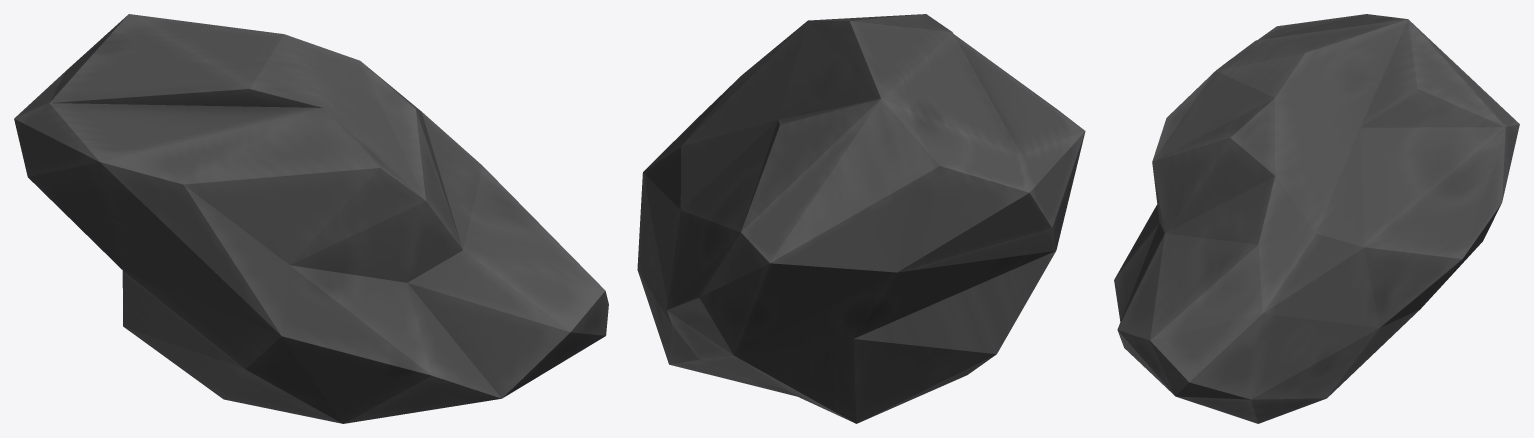
File: asteroid4.glb
3 views of the same model, side by side, from view 1: azimuth 30°, elevation 25°; view 2: azimuth 150°, elevation 25°; view 3: azimuth 270°, elevation 25° (orthographic). The views are drawn at different scales.
Visible parts, largest first — view 1: Asteroids_Mesh.004; view 2: Asteroids_Mesh.004; view 3: Asteroids_Mesh.004.
Part boxes in pixels (<box>): Asteroids_Mesh.004: <box>14,14,608,423</box>; Asteroids_Mesh.004: <box>637,14,1085,423</box>; Asteroids_Mesh.004: <box>1114,14,1519,423</box>.
Size of the model in its own units: 1.37 by 1.04 by 1.24.
Materials: 1 (1 with a texture image).
